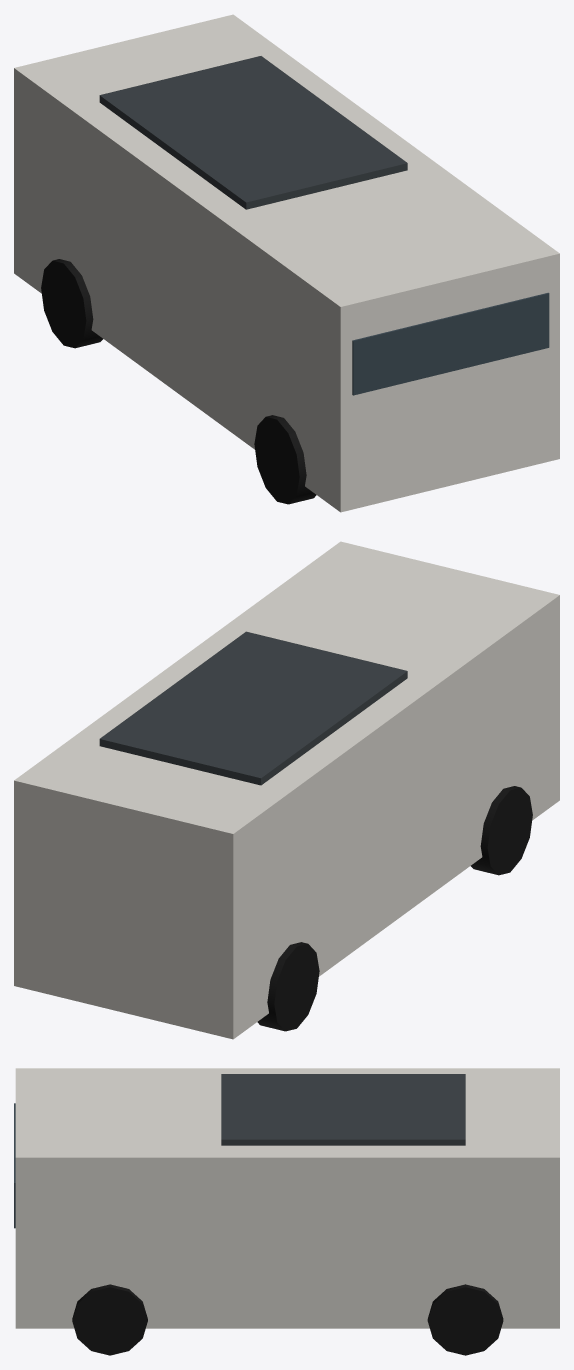
File: van-1980s.glb
3 renders of one model, top to bottom at view 1: azimuth 30°, elevation 25°; view 2: azimuth 150°, elevation 25°; view 3: azimuth 270°, elevation 25°, orthographic. The views are drawn at different scales.
Parts seen in each view (by area): view 1: kit-van-1980s; view 2: kit-van-1980s; view 3: kit-van-1980s.
Boxes of the visible parts, <box> form: kit-van-1980s: <box>14,14,559,512</box>; kit-van-1980s: <box>14,541,559,1039</box>; kit-van-1980s: <box>14,1068,559,1355</box>.
Size of the model in its own units: 2.02 by 2 by 4.91.
